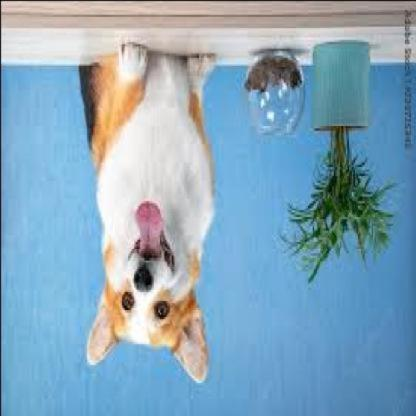dog: (77, 41, 217, 383)
